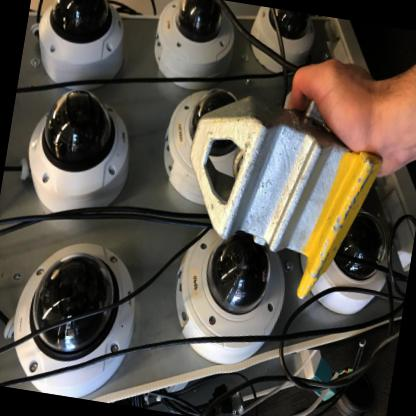Twistlock: (165, 76, 393, 317)
